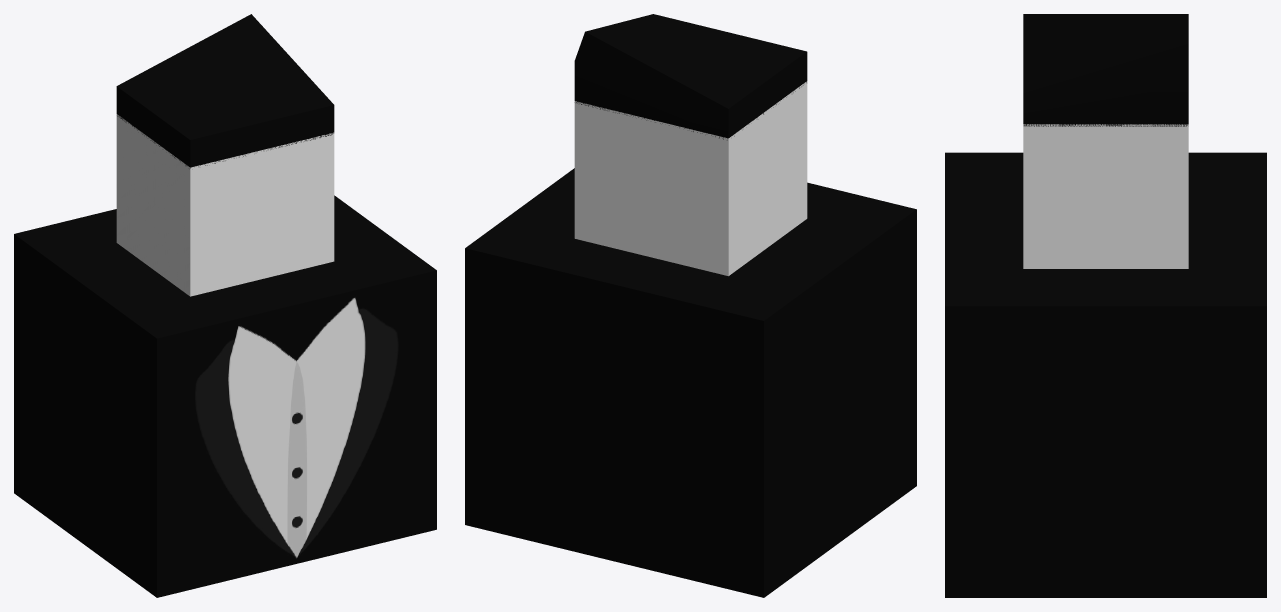
The model's file is black jack.fbx.
3 views of the same model, side by side, from view 1: azimuth 30°, elevation 25°; view 2: azimuth 150°, elevation 25°; view 3: azimuth 270°, elevation 25° (orthographic). The views are drawn at different scales.
Visible parts, largest first — view 1: polySurface11; view 2: polySurface11; view 3: polySurface11.
Boxes of the visible parts, <box> form: polySurface11: <box>14,14,436,597</box>; polySurface11: <box>465,14,916,597</box>; polySurface11: <box>945,14,1266,597</box>.
Bounding box in the file's own units: 4.17 × 6.48 × 3.69.
